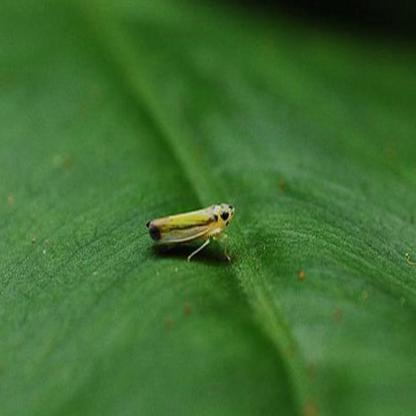green-leafhopper: (151, 195, 238, 263)
